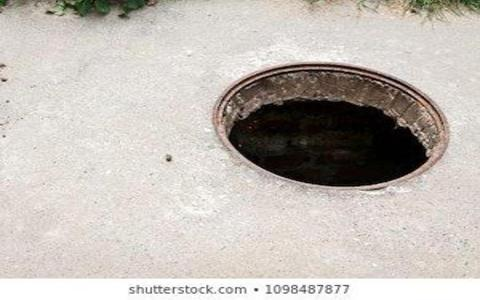open manhole: (198, 52, 456, 195)
